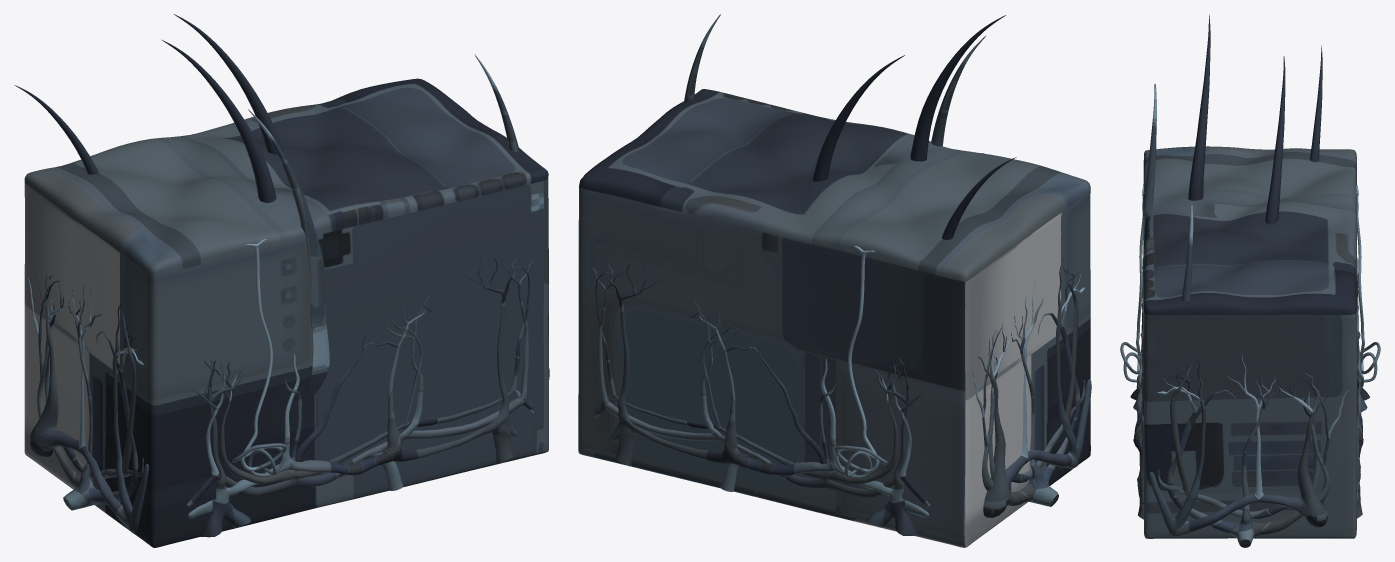
File: skin.gltf
3 renders of one model, left to right at view 1: azimuth 30°, elevation 25°; view 2: azimuth 150°, elevation 25°; view 3: azimuth 270°, elevation 25°, orthographic. The views are drawn at different scales.
Visible parts, largest first — view 1: node_id30; view 2: node_id30; view 3: node_id30.
Boxes of the visible parts, <box> form: node_id30: <box>14,14,549,547</box>; node_id30: <box>578,14,1091,547</box>; node_id30: <box>1120,14,1380,547</box>.
Bounding box in the file's own units: 0.512 × 0.5068 × 0.3096.
